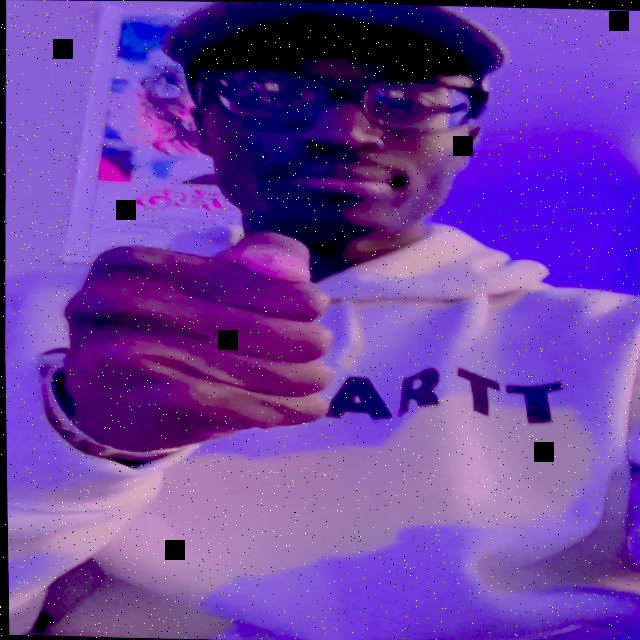Rock: (54, 227, 336, 447)
